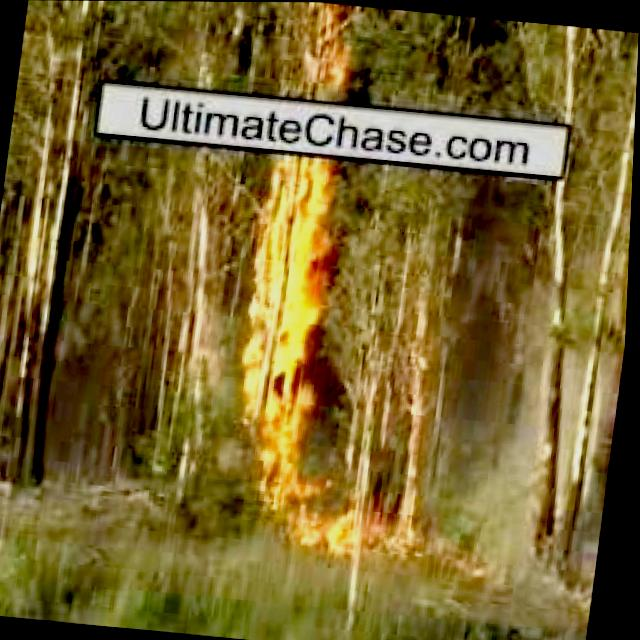helmet: (242, 153, 342, 427), (240, 429, 426, 559), (304, 9, 363, 88)
